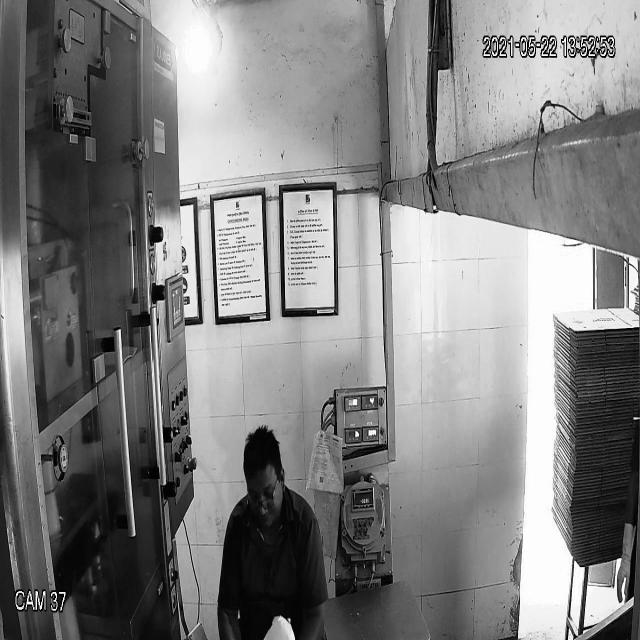glasses: (245, 482, 282, 520)
